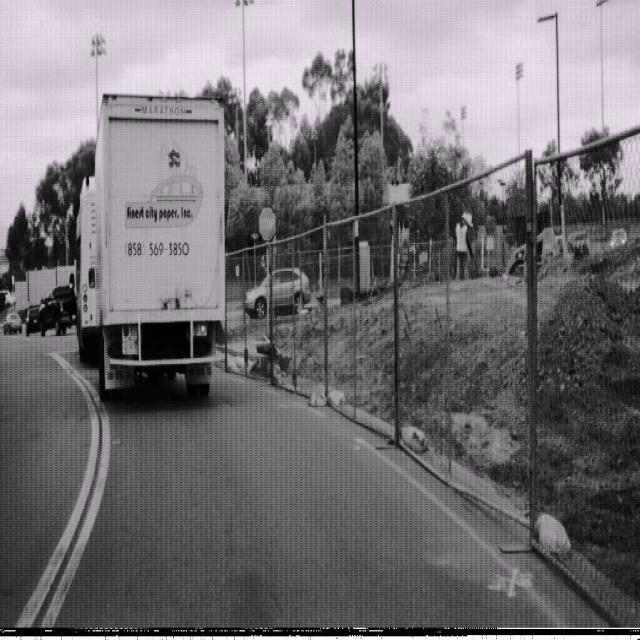stop_sign: (259, 206, 276, 243)
